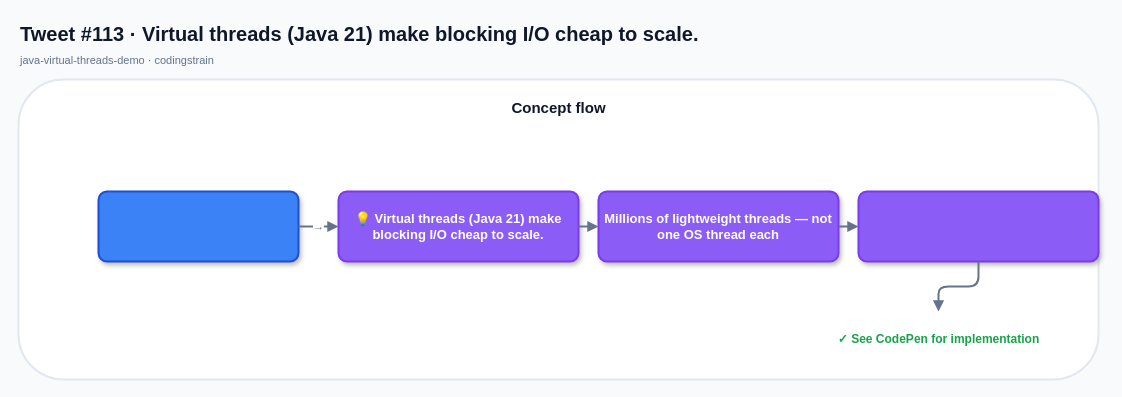
This 1122x397 diagram has some shape labels left out. The shapes that lost their labels are listed below. From the top down, each one's centre as x and y in pixels, then its label:
pixel 199 227: Problem / context
pixel 979 227: Keep simple blocking code; the JVM unmounts while waiting
